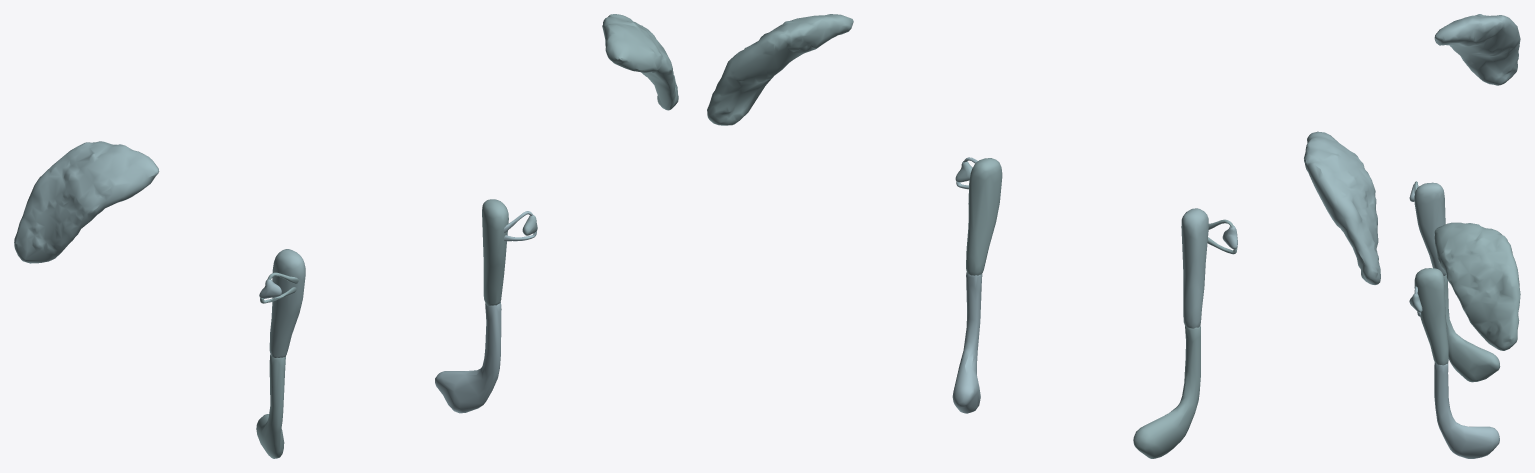
The model's file is lacrimal-apparatus.glb.
3 views of the same model, side by side, from view 1: azimuth 30°, elevation 25°; view 2: azimuth 150°, elevation 25°; view 3: azimuth 270°, elevation 25° (orthographic). The views are drawn at different scales.
Visible parts, largest first — view 1: FJ1350 Right lacrimal gland, FJ1299 Left lacrimal gland, FJ1302 Left nasolacrimal duct, FJ1360 Right lacrimal sac, FJ1309 Left lacrimal sac, FJ1353 Right nasolacrimal duct; view 2: FJ1299 Left lacrimal gland, FJ1350 Right lacrimal gland, FJ1353 Right nasolacrimal duct, FJ1309 Left lacrimal sac, FJ1360 Right lacrimal sac, FJ1302 Left nasolacrimal duct; view 3: FJ1299 Left lacrimal gland, FJ1350 Right lacrimal gland, FJ1302 Left nasolacrimal duct, FJ1309 Left lacrimal sac, FJ1353 Right nasolacrimal duct, FJ1360 Right lacrimal sac, FJ1301 Left lacrimal lake.
Part boxes in pixels (x1=…): FJ1350 Right lacrimal gland: x1=14, y1=141, x2=159, y2=263; FJ1299 Left lacrimal gland: x1=602, y1=14, x2=678, y2=110; FJ1302 Left nasolacrimal duct: x1=435, y1=302, x2=501, y2=413; FJ1360 Right lacrimal sac: x1=269, y1=249, x2=305, y2=357; FJ1309 Left lacrimal sac: x1=482, y1=199, x2=508, y2=305; FJ1353 Right nasolacrimal duct: x1=256, y1=354, x2=285, y2=458; FJ1299 Left lacrimal gland: x1=707, y1=14, x2=853, y2=125; FJ1350 Right lacrimal gland: x1=1304, y1=131, x2=1380, y2=284; FJ1353 Right nasolacrimal duct: x1=1133, y1=325, x2=1200, y2=458; FJ1309 Left lacrimal sac: x1=966, y1=158, x2=1002, y2=275; FJ1360 Right lacrimal sac: x1=1181, y1=208, x2=1208, y2=328; FJ1302 Left nasolacrimal duct: x1=952, y1=272, x2=982, y2=413; FJ1299 Left lacrimal gland: x1=1434, y1=222, x2=1520, y2=350; FJ1350 Right lacrimal gland: x1=1434, y1=14, x2=1520, y2=85; FJ1302 Left nasolacrimal duct: x1=1434, y1=362, x2=1499, y2=458; FJ1309 Left lacrimal sac: x1=1414, y1=268, x2=1448, y2=365; FJ1353 Right nasolacrimal duct: x1=1444, y1=275, x2=1500, y2=382; FJ1360 Right lacrimal sac: x1=1414, y1=182, x2=1446, y2=275; FJ1301 Left lacrimal lake: x1=1409, y1=293, x2=1422, y2=312.
Size of the model in its own units: 0.0943 by 0.0477 by 0.0161.
